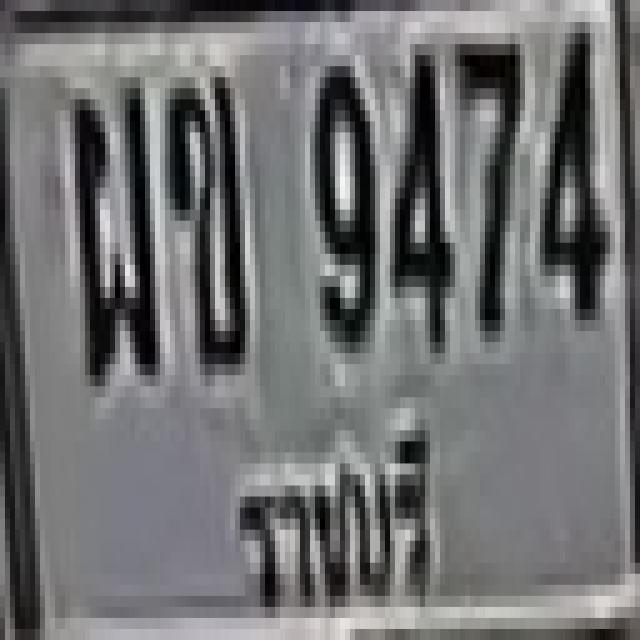-: (70, 77, 155, 375), (160, 66, 245, 364)
4: (535, 11, 600, 309), (390, 44, 445, 342)
7: (450, 33, 520, 331)
9: (310, 55, 370, 342)
RBR: (223, 405, 443, 632)
